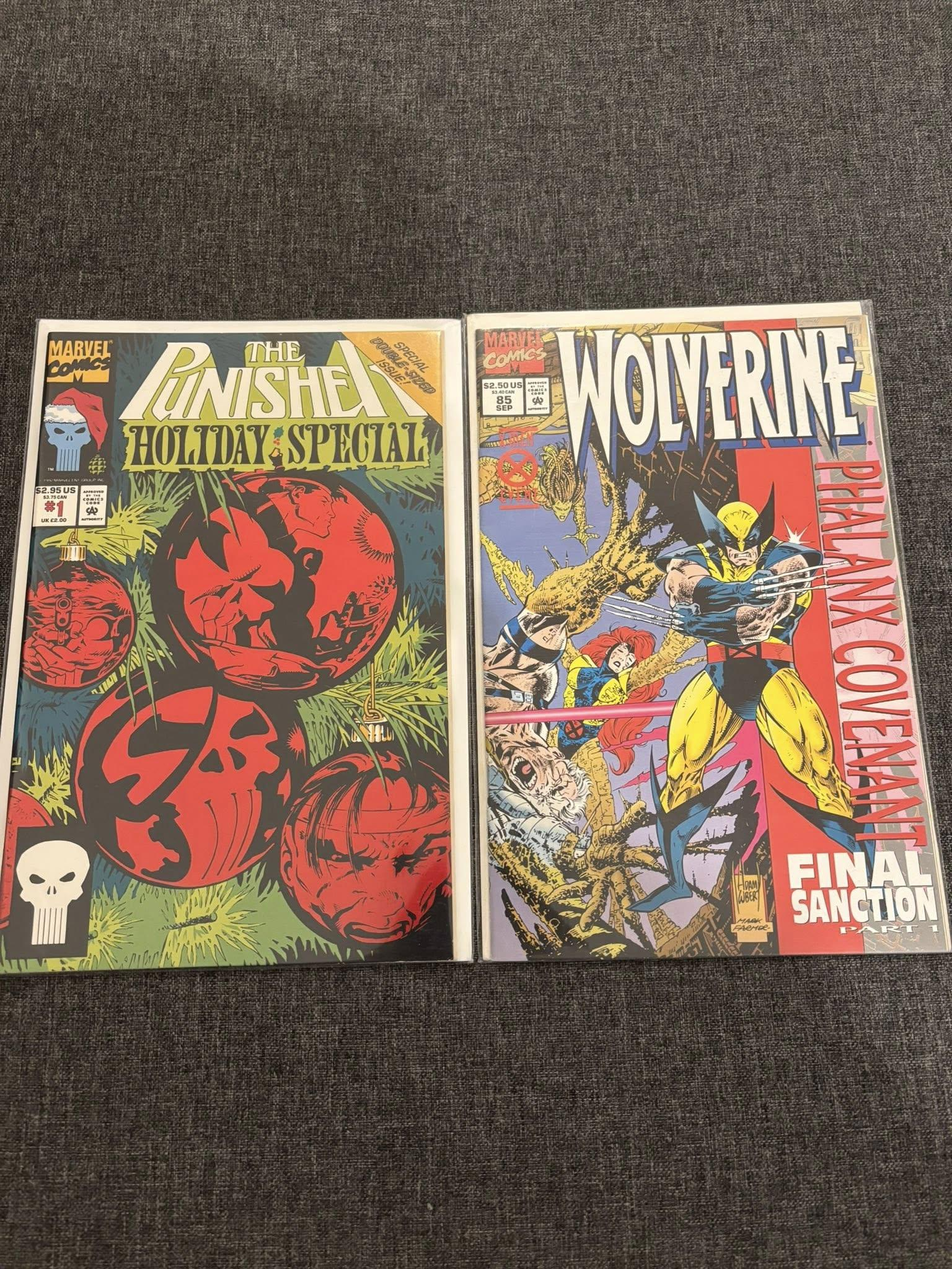comic: (467, 301, 948, 963), (0, 321, 470, 972)
